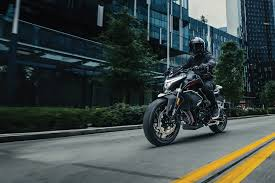motorcycle: (142, 58, 230, 148)
